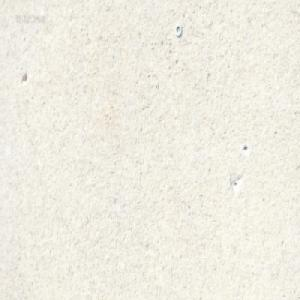Washer: (174, 22, 182, 37)
